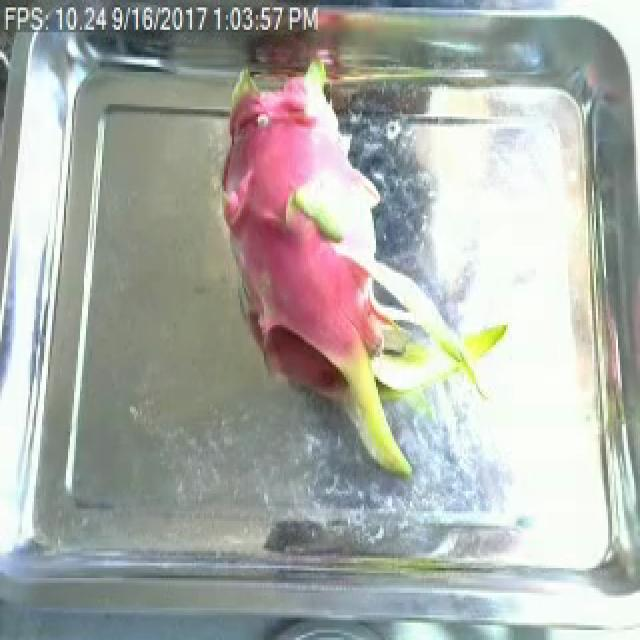fruit: (216, 67, 508, 481)
